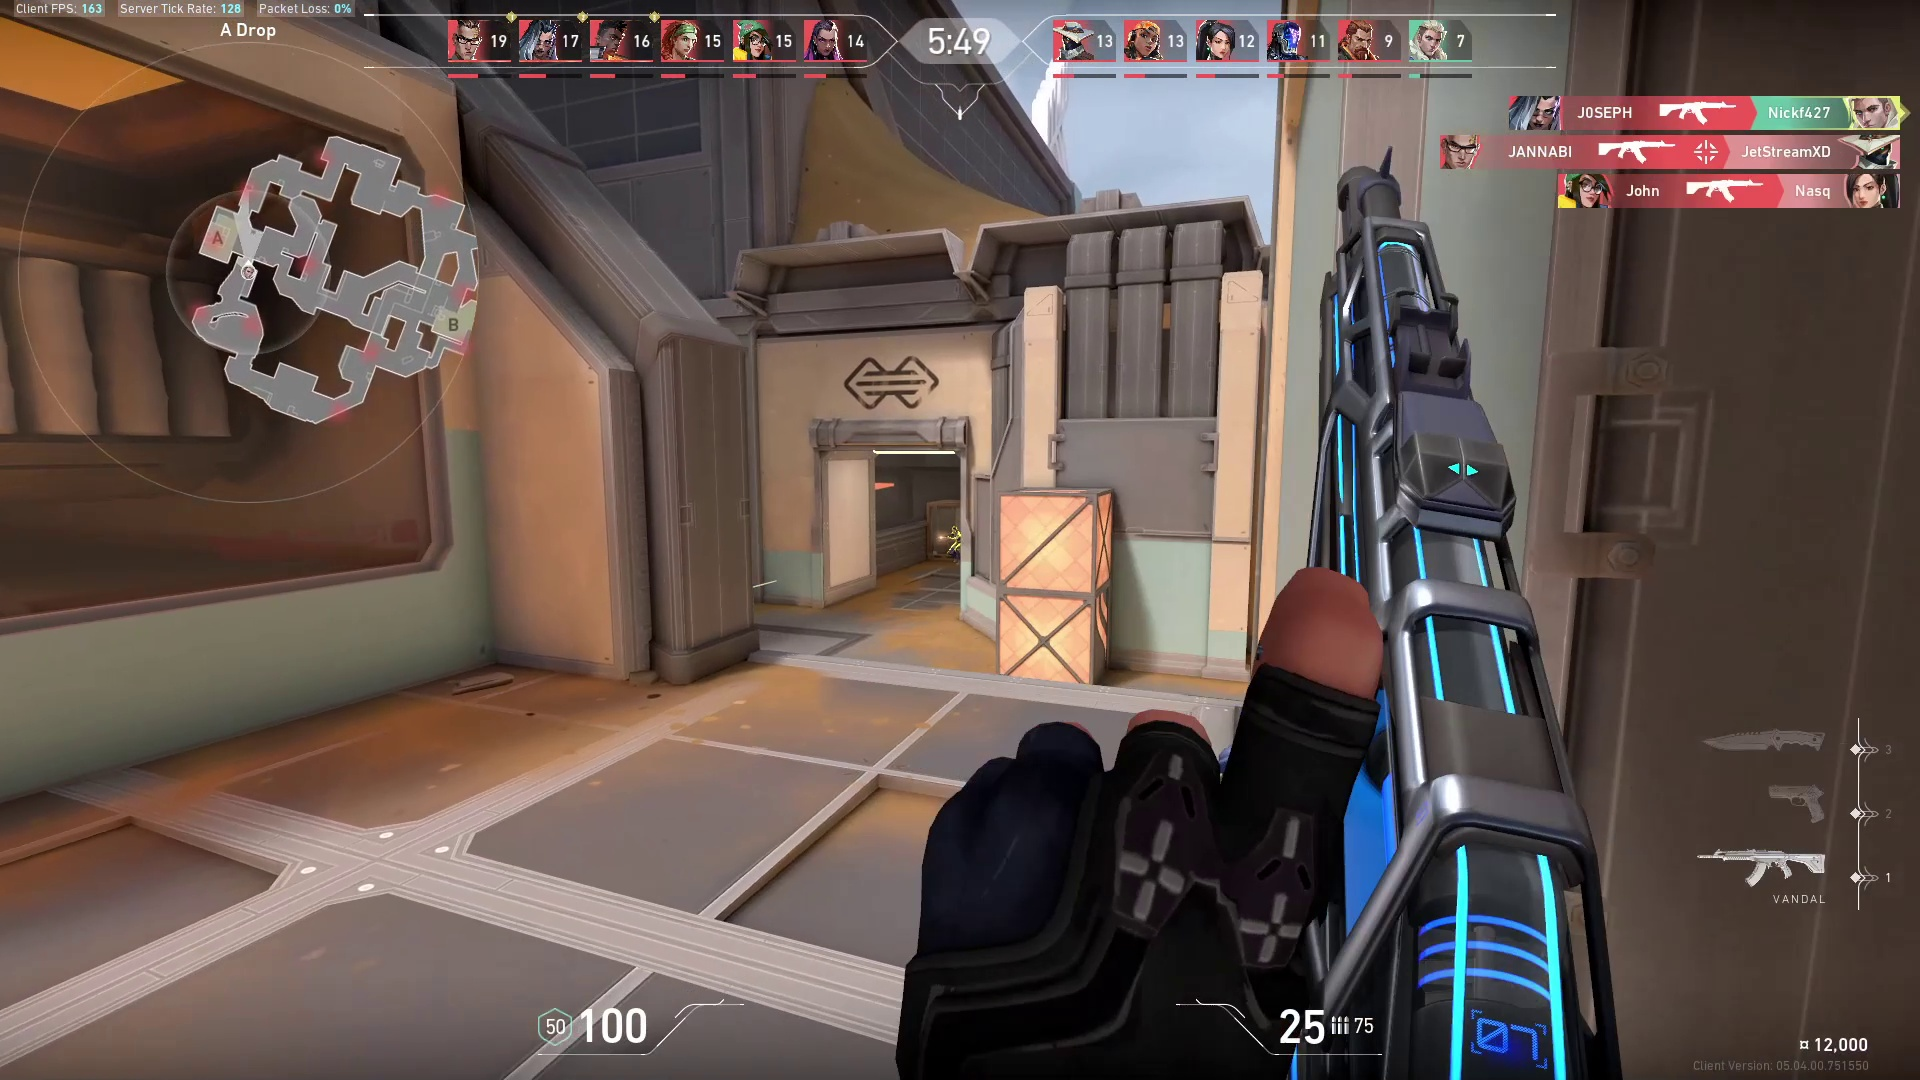enemy_body: (945, 534, 963, 566)
enemy_head: (949, 525, 960, 534)
